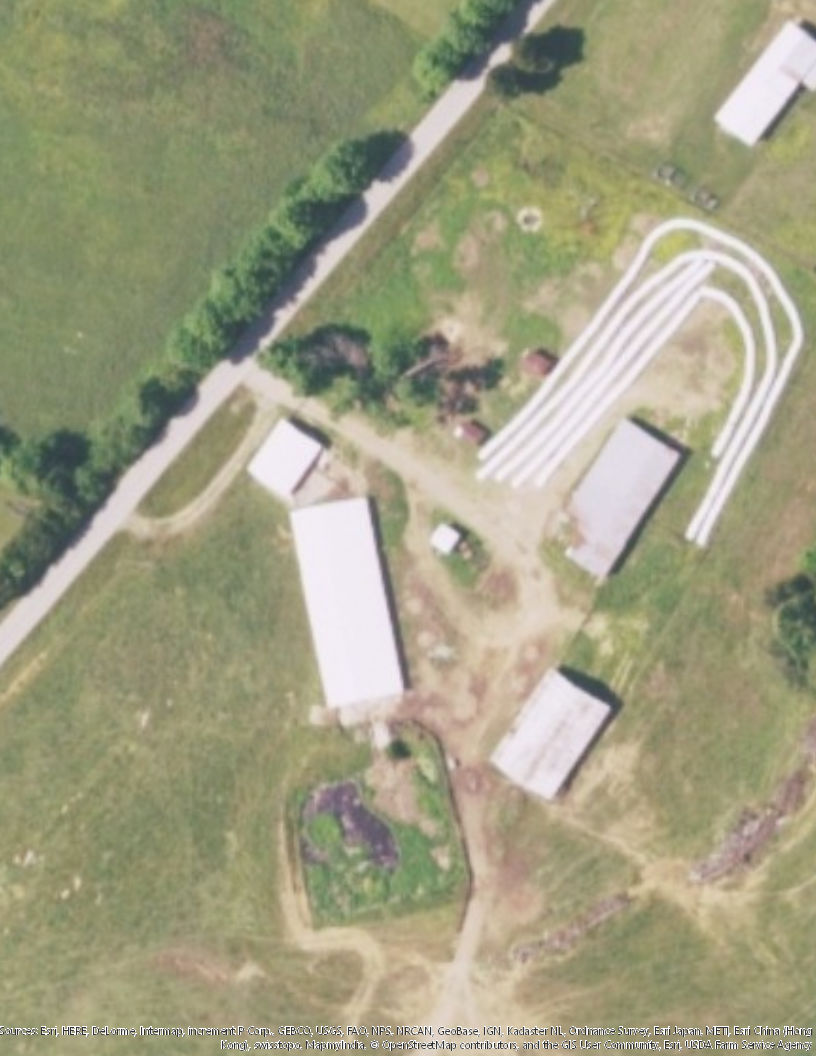cafo: (279, 489, 419, 715), (556, 405, 690, 591), (488, 662, 620, 809), (715, 19, 816, 152)
